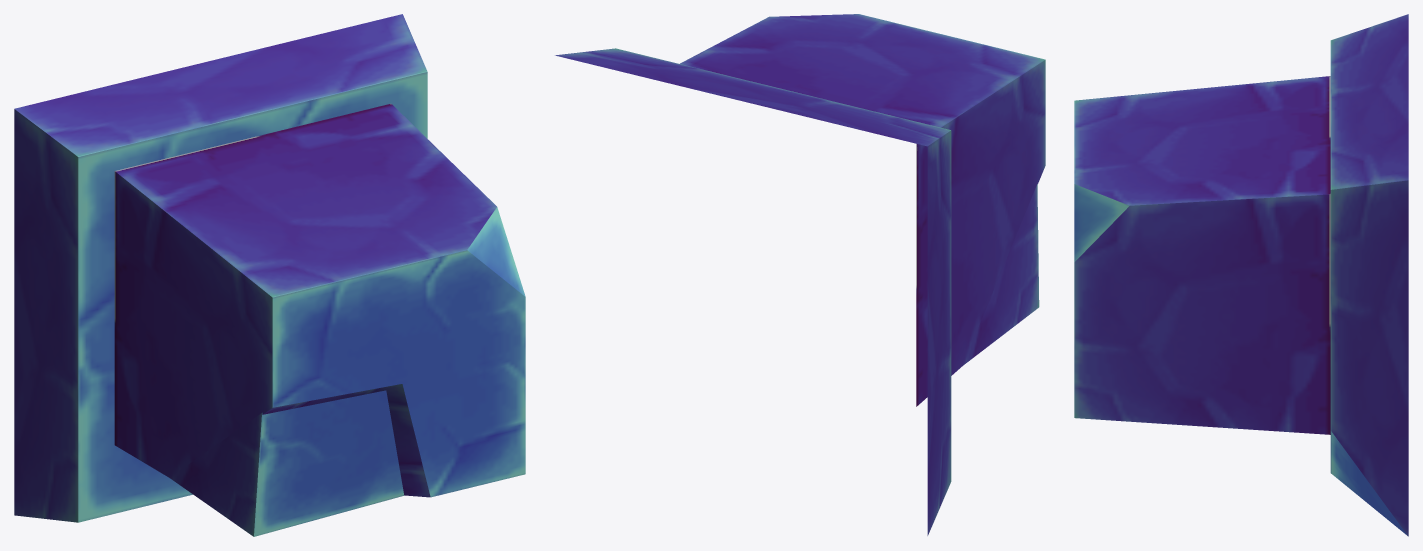
The model's file is gravestone_06.glb.
3 renders of one model, left to right at view 1: azimuth 30°, elevation 25°; view 2: azimuth 150°, elevation 25°; view 3: azimuth 270°, elevation 25°, orthographic. The views are drawn at different scales.
Parts seen in each view (by area): view 1: graveyard.gravestone_06-Mesh[0]; view 2: graveyard.gravestone_06-Mesh[0]; view 3: graveyard.gravestone_06-Mesh[0].
Part boxes in pixels (left/top/right/bottom): graveyard.gravestone_06-Mesh[0]: left=14, top=14, right=525, bottom=536; graveyard.gravestone_06-Mesh[0]: left=555, top=14, right=1045, bottom=535; graveyard.gravestone_06-Mesh[0]: left=1074, top=14, right=1408, bottom=536.
Size of the model in its own units: 1.13 by 1.13 by 0.96.
Materials: 1 (1 with a texture image).
